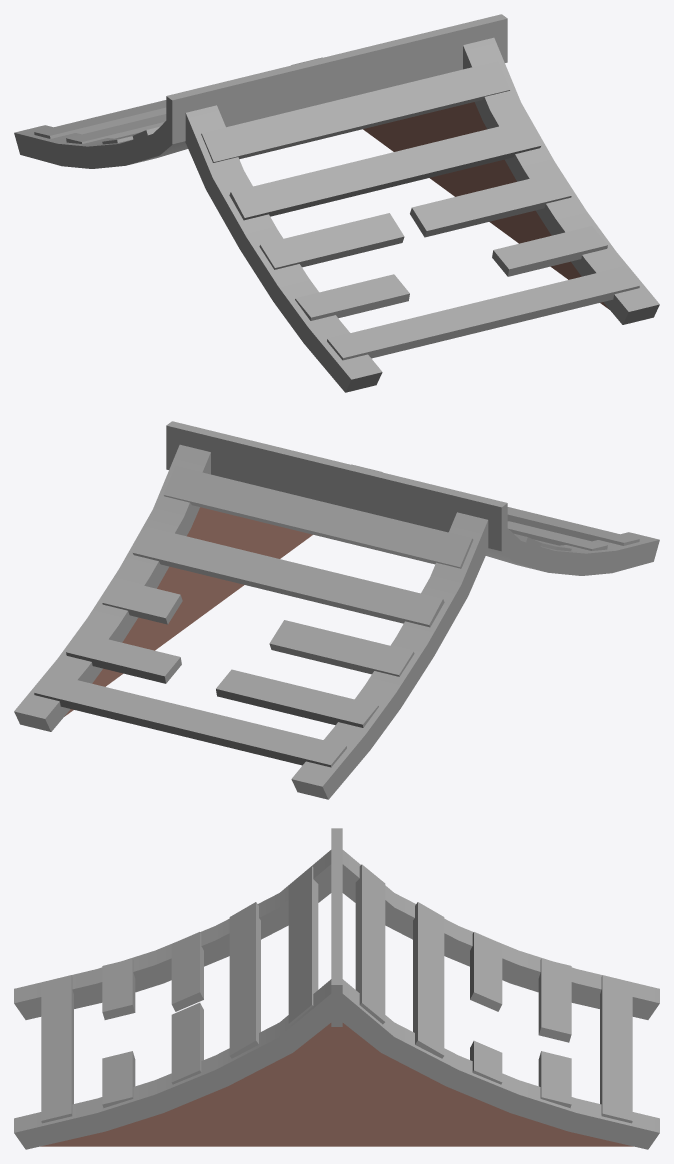
Rendered from TechoGrande2.fbx.
The picture shows the model from 3 angles, top to bottom: view 1: azimuth 30°, elevation 25°; view 2: azimuth 150°, elevation 25°; view 3: azimuth 270°, elevation 25°; orthographic projection. The views are drawn at different scales.
Visible parts, largest first — view 1: polySurface1082, polySurface1102; view 2: polySurface1082, polySurface1102; view 3: polySurface1082, polySurface1102.
Part boxes in pixels (<box>): polySurface1082: <box>14,14,659,392</box>; polySurface1102: <box>363,102,609,309</box>; polySurface1082: <box>14,421,659,799</box>; polySurface1102: <box>64,507,312,716</box>; polySurface1082: <box>14,828,659,1149</box>; polySurface1102: <box>40,1023,633,1146</box>.
Bounding box in the file's own units: 2.66 × 1.36 × 4.64.
